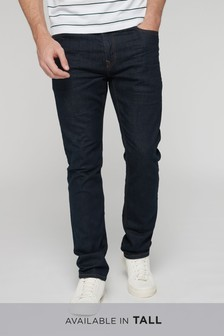jeans: (52, 31, 162, 279)
